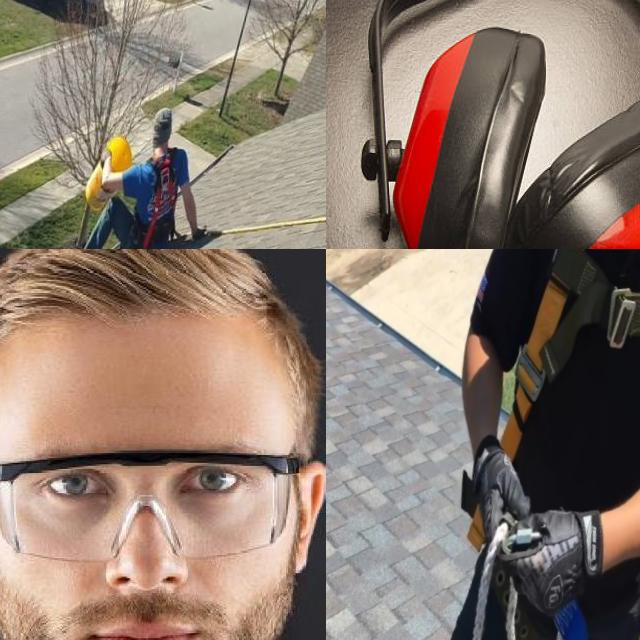Ear-protection: (326, 0, 640, 249)
Harness: (503, 249, 640, 460), (142, 149, 178, 249)
No_Ear-Protection: (294, 463, 326, 575)
face_nomask: (0, 512, 296, 640)
glasses: (0, 451, 300, 561)
head_nohelmet: (0, 249, 322, 458)
